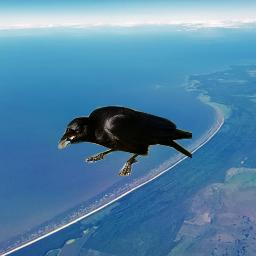Crow: (57, 105, 192, 176)
